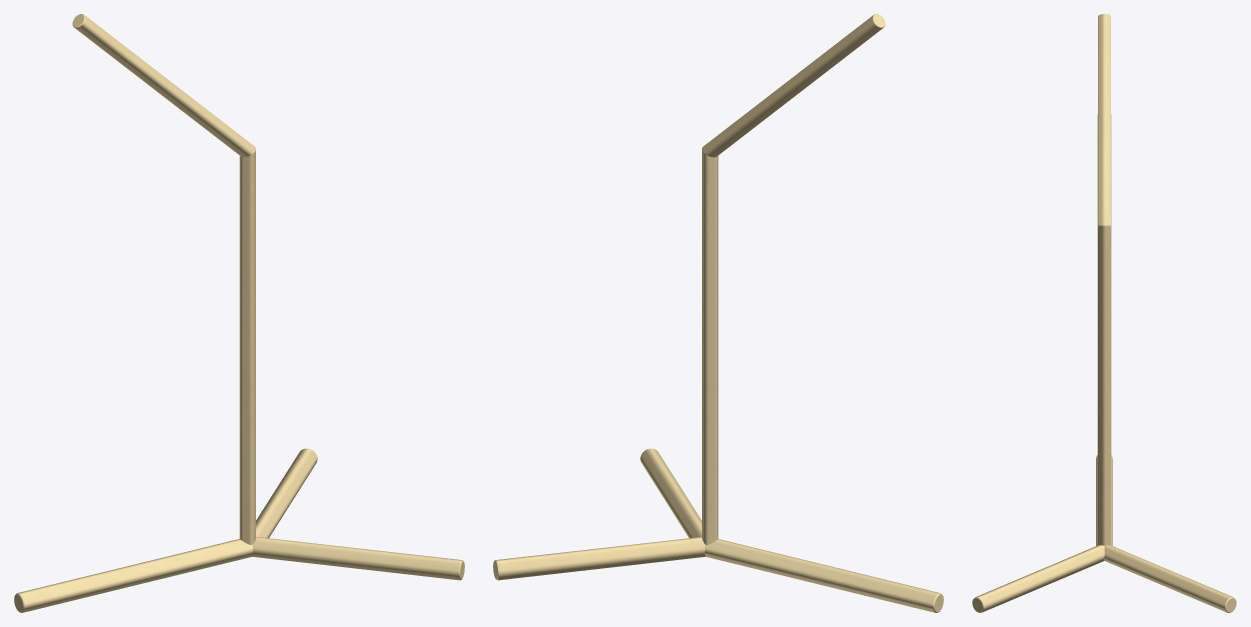
Rendered from TorisBaseGold.glb.
3 renders of one model, left to right at view 1: azimuth 30°, elevation 25°; view 2: azimuth 150°, elevation 25°; view 3: azimuth 270°, elevation 25°, orthographic. The views are drawn at different scales.
Parts seen in each view (by area): view 1: Base; view 2: Base; view 3: Base.
Boxes of the visible parts, x1,y1,x2,y2 form: Base: (14, 14, 464, 612); Base: (493, 14, 943, 612); Base: (972, 14, 1236, 612).
Size of the model in its own units: 0.1575 by 0.2354 by 0.118.
Materials: 1 (1 with a texture image).
